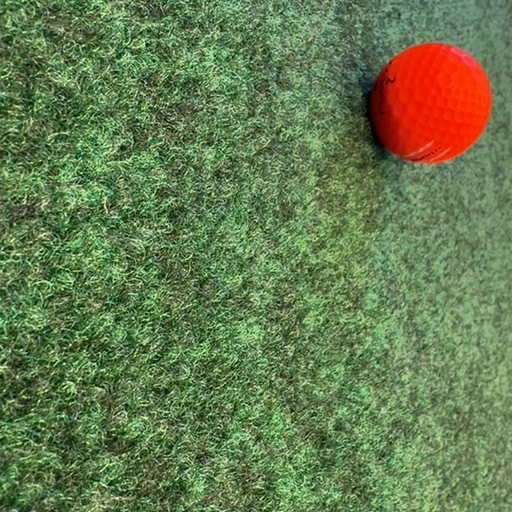Ball: (371, 43, 492, 164)
